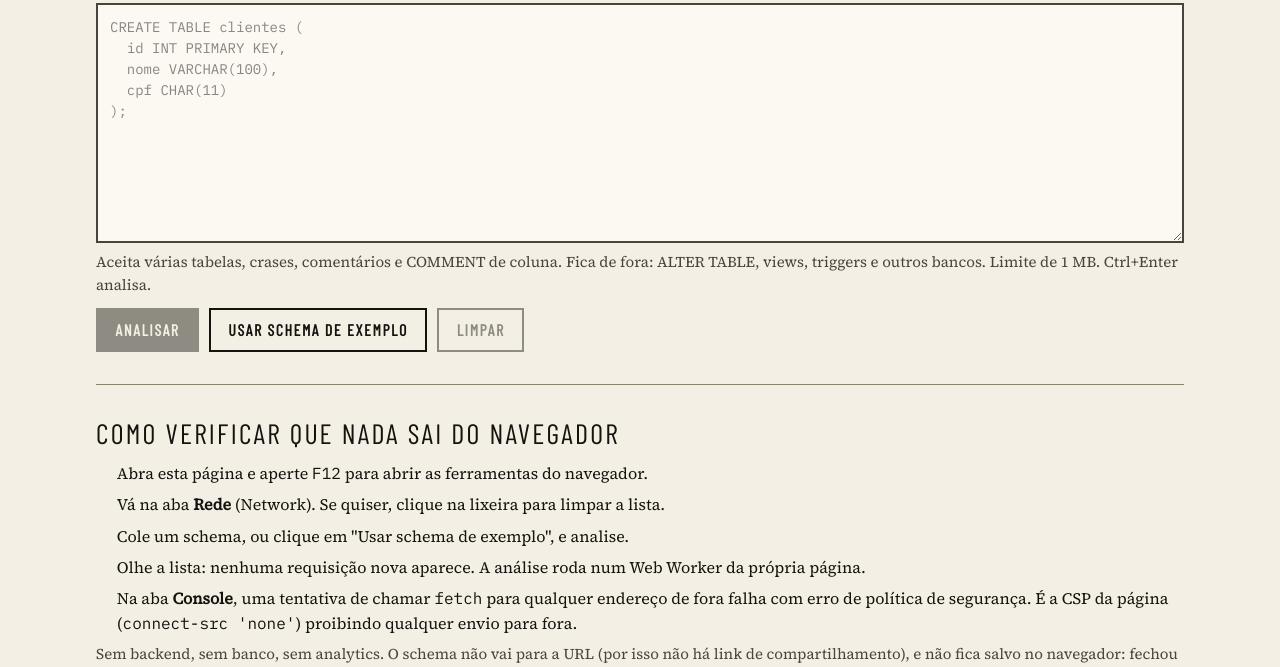
Test case: interface: a tarja › corrigir à mão muda a classificação e marca como corrigida
The image size is (1280, 667).
(page scrolled)
Click the button "Usar schema de exemplo". click: (318, 330)
box: [209,308,428,352]
(page scrolled)
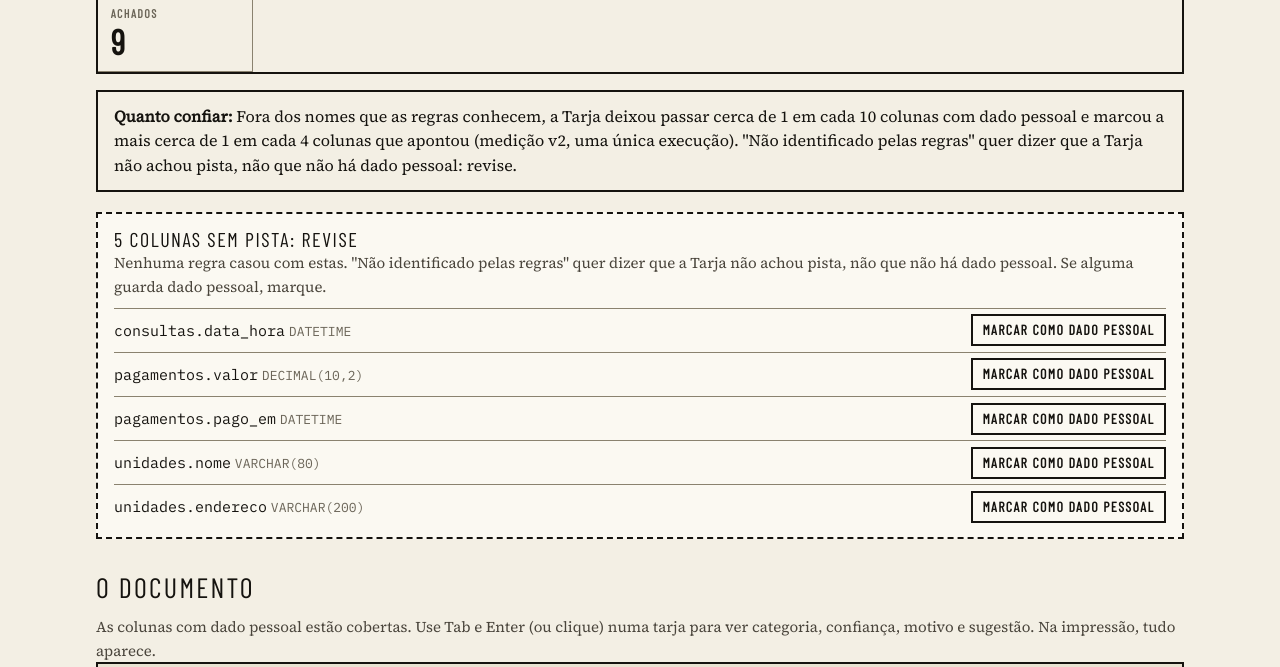
Result: the heading "O documento" is shown at [96,570,255,604]
Click the 1st button "Marcar como dado pessoal". click: (1068, 330)
box: [971,314,1166,346]
(page scrolled)
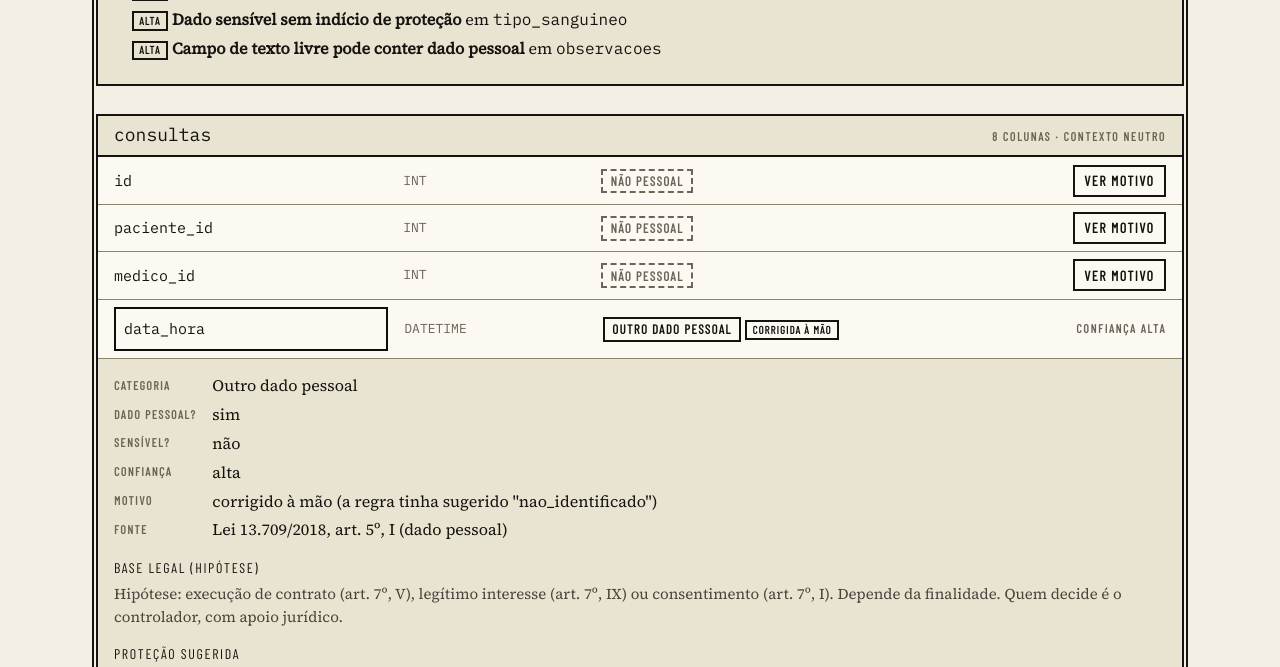
Result: the text "Corrigida à mão" is shown at [745,320,839,340]
